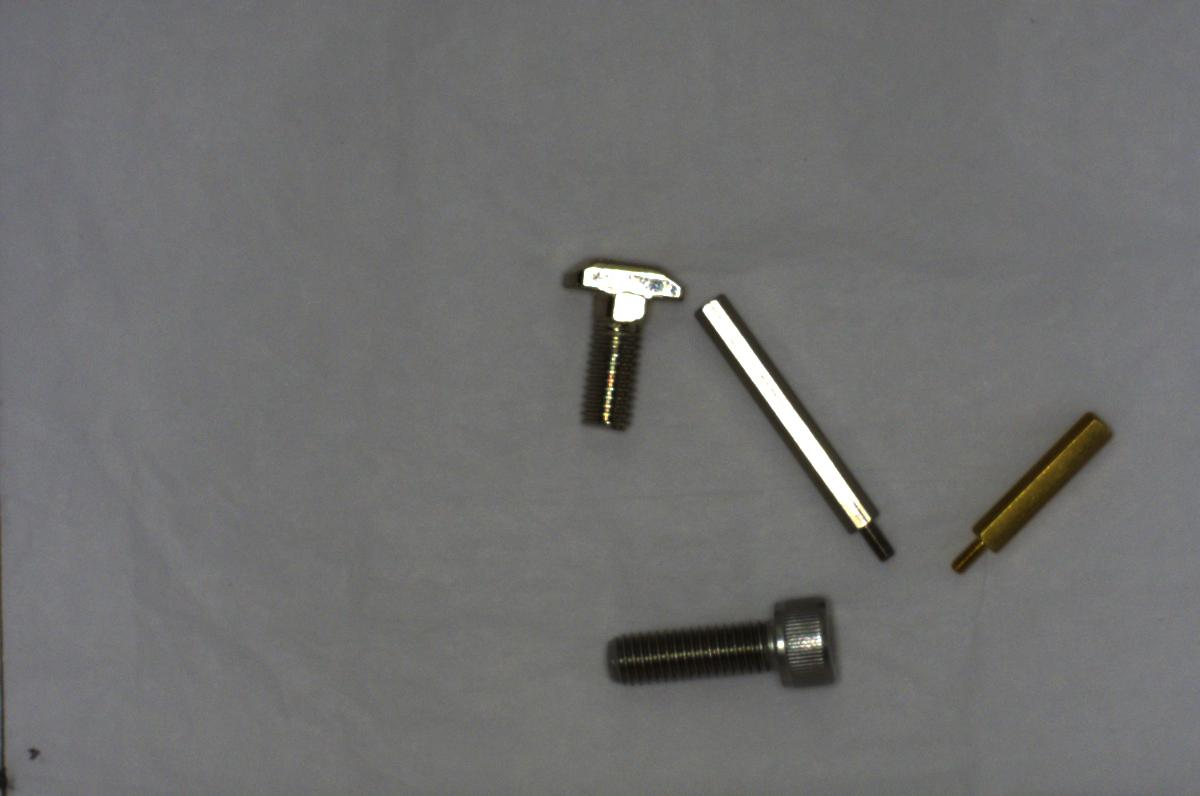Hexagon pillar: (942, 395, 1124, 581)
Hexagon screw: (592, 589, 854, 700)
Hexagonal steel column: (687, 283, 895, 565)
T-shaped screw: (565, 253, 687, 443)
